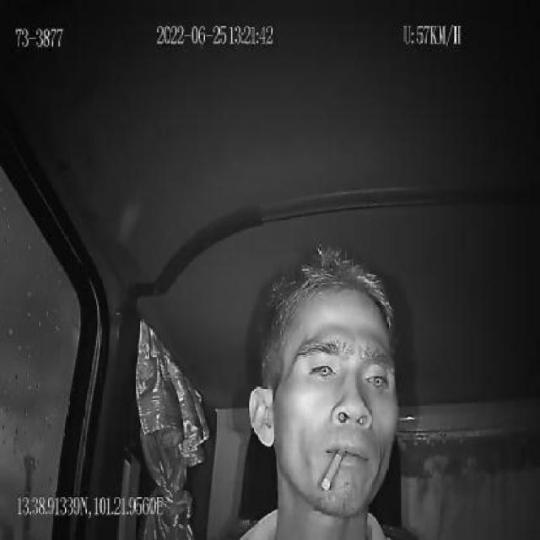smoking: (322, 448, 345, 492)
